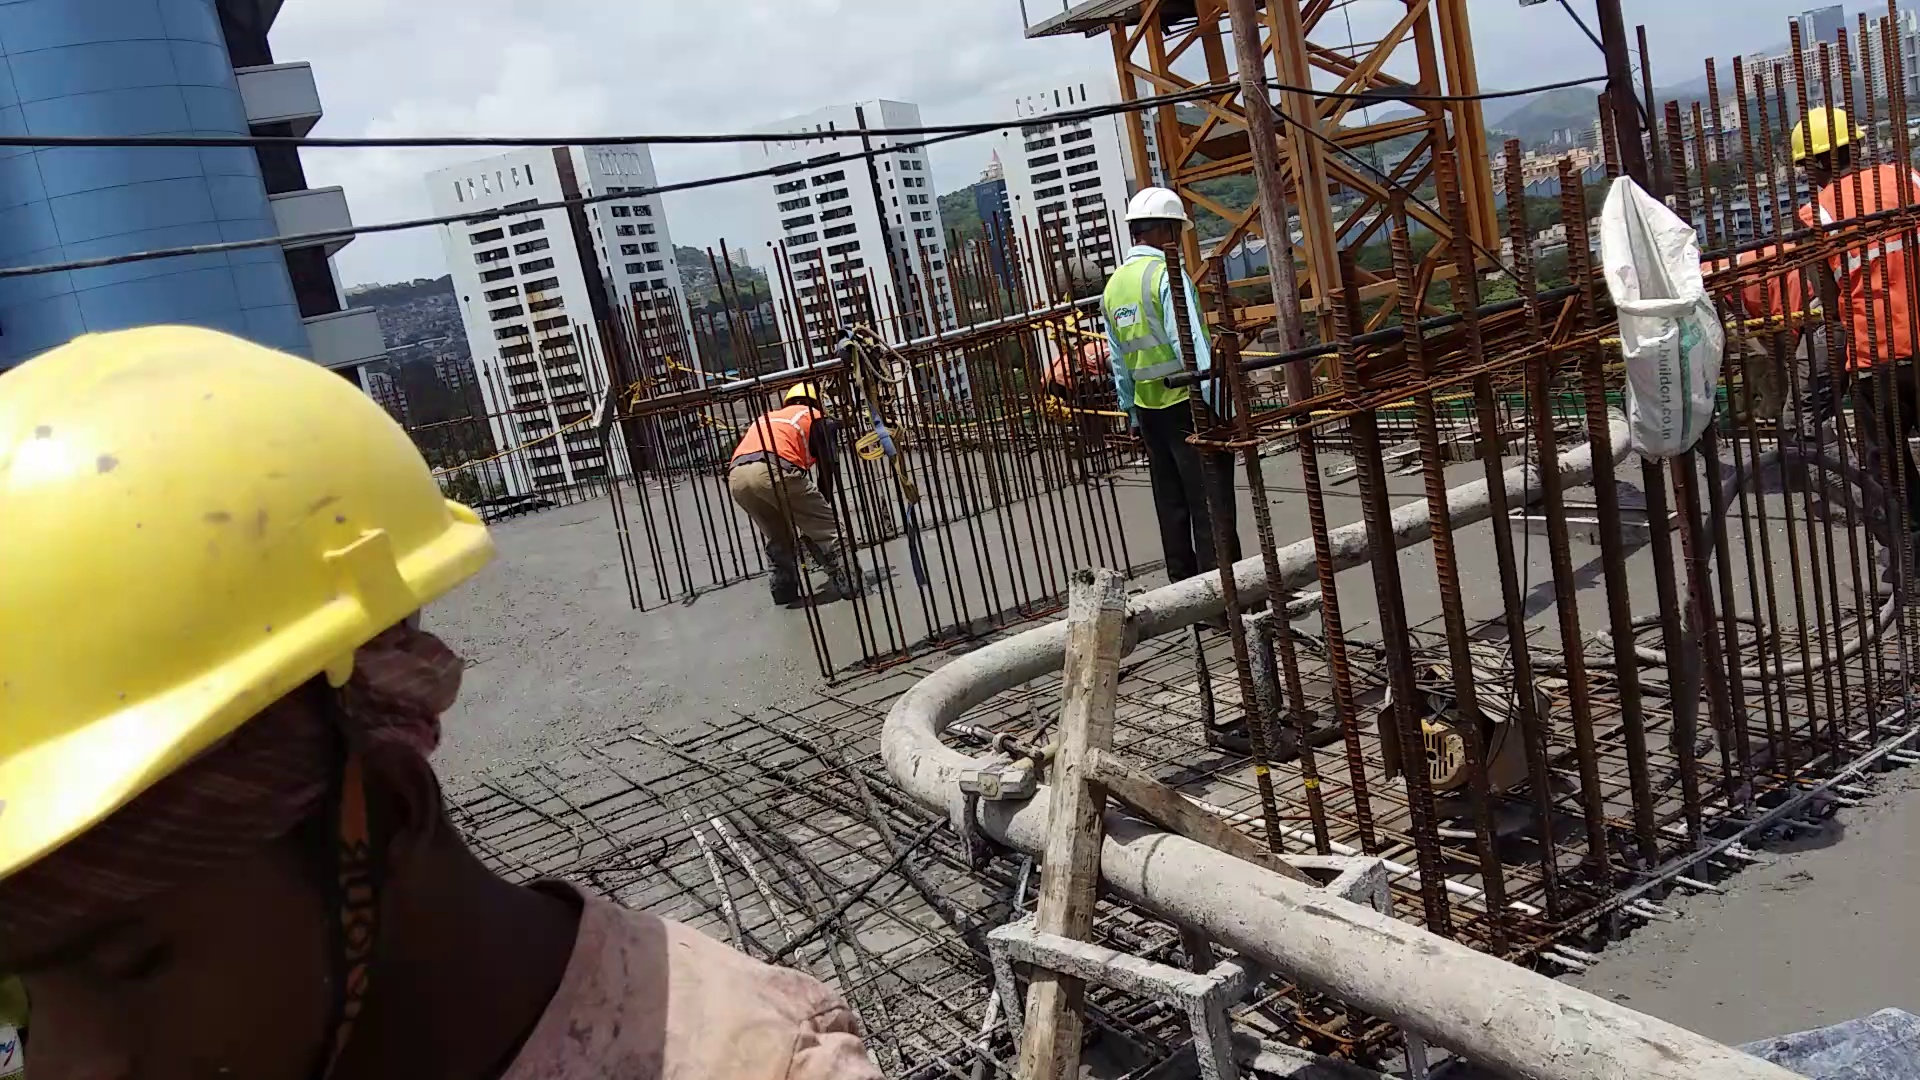SAFE: (1112, 182, 1174, 423), (731, 386, 819, 483)
